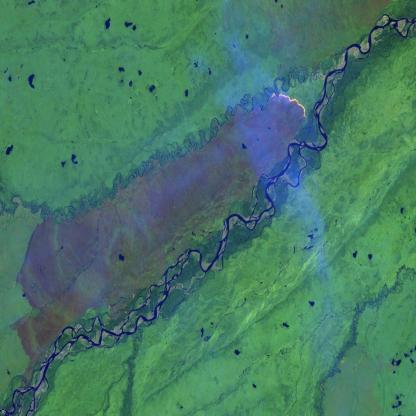fire: (265, 86, 310, 124)
